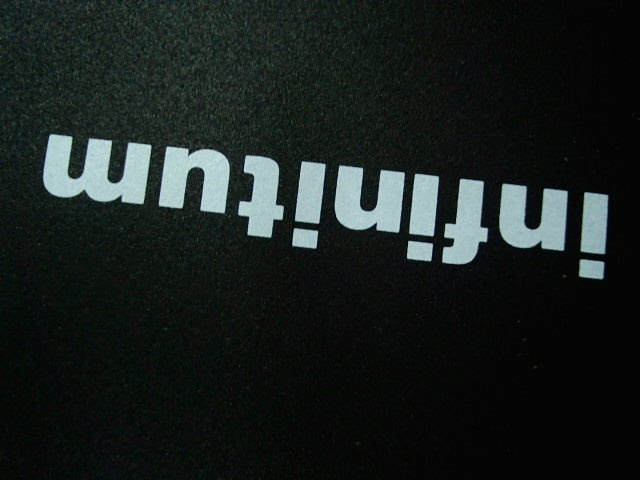BK_infinitum: (36, 120, 619, 284)
